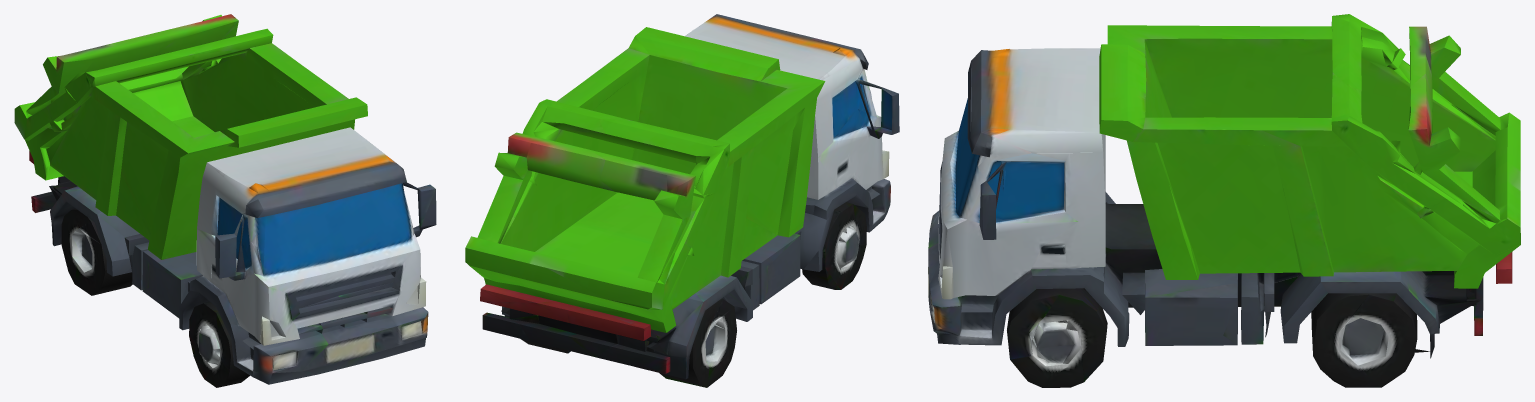
The model's file is truck.glb.
The picture shows the model from 3 angles, left to right: view 1: azimuth 30°, elevation 25°; view 2: azimuth 150°, elevation 25°; view 3: azimuth 270°, elevation 25°; orthographic projection. The views are drawn at different scales.
Visible parts, largest first — view 1: model; view 2: model; view 3: model.
Boxes of the visible parts, x1=… form: model: x1=14, y1=14, x2=436, y2=387; model: x1=465, y1=14, x2=899, y2=387; model: x1=928, y1=14, x2=1520, y2=387.
Bounding box in the file's own units: 0.9698 × 0.9517 × 1.9.
Materials: 1 (1 with a texture image).
